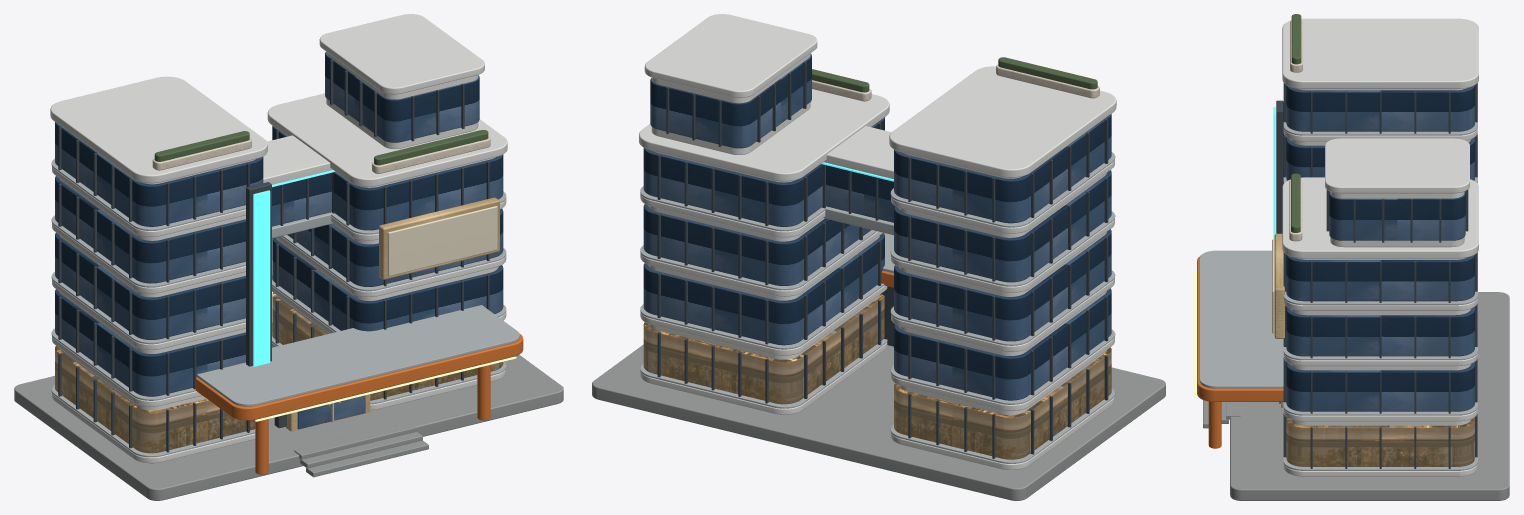
The model's file is level-4-lite.glb.
3 renders of one model, left to right at view 1: azimuth 30°, elevation 25°; view 2: azimuth 150°, elevation 25°; view 3: azimuth 270°, elevation 25°, orthographic. The views are drawn at different scales.
Visible parts, largest first — view 1: body, roof, canopy, foundation, floors, details, entrance, sign, bridge; view 2: body, roof, foundation, floors, bridge, details; view 3: body, roof, foundation, canopy, floors, details, entrance, sign.
Part boxes in pixels (x1=…): body: x1=55, y1=122, x2=503, y2=453; roof: x1=50, y1=14, x2=507, y2=186; canopy: x1=196, y1=305, x2=523, y2=420; foundation: x1=14, y1=323, x2=563, y2=500; floors: x1=51, y1=158, x2=506, y2=463; details: x1=152, y1=130, x2=490, y2=366; entrance: x1=255, y1=356, x2=516, y2=477; sign: x1=379, y1=197, x2=499, y2=279; bridge: x1=263, y1=135, x2=335, y2=238; body: x1=643, y1=114, x2=1111, y2=459; roof: x1=639, y1=14, x2=1116, y2=181; foundation: x1=592, y1=344, x2=1165, y2=500; floors: x1=640, y1=152, x2=1115, y2=469; bridge: x1=821, y1=126, x2=894, y2=235; details: x1=812, y1=57, x2=1099, y2=101; body: x1=1283, y1=83, x2=1477, y2=468; roof: x1=1282, y1=18, x2=1478, y2=258; foundation: x1=1230, y1=292, x2=1509, y2=500; canopy: x1=1197, y1=250, x2=1283, y2=401; floors: x1=1283, y1=83, x2=1477, y2=476; details: x1=1273, y1=14, x2=1302, y2=241; entrance: x1=1194, y1=271, x2=1283, y2=448; sign: x1=1272, y1=233, x2=1284, y2=338.
Bounding box in the file's own units: 6.45 × 4.67 × 4.34.
Materials: 13 (4 with a texture image).
